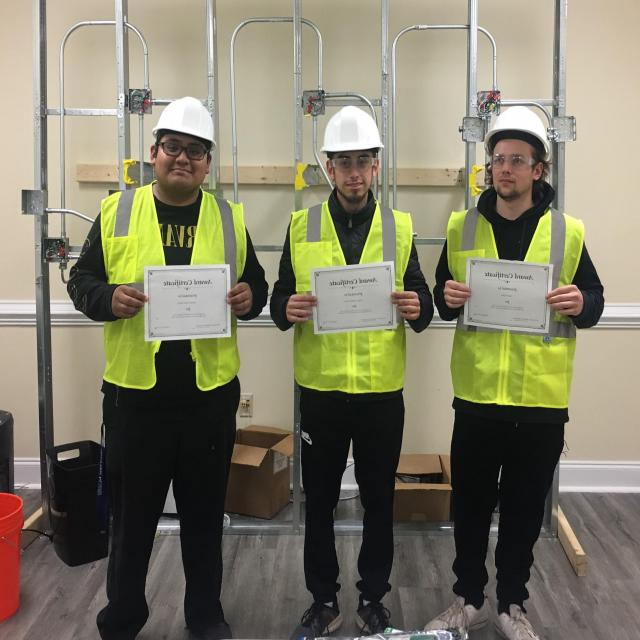Reflective-Jacket: (96, 186, 250, 394), (442, 204, 588, 414), (284, 202, 418, 399)
Safety-Helmet: (150, 92, 220, 146), (318, 101, 384, 155), (483, 100, 552, 148)
